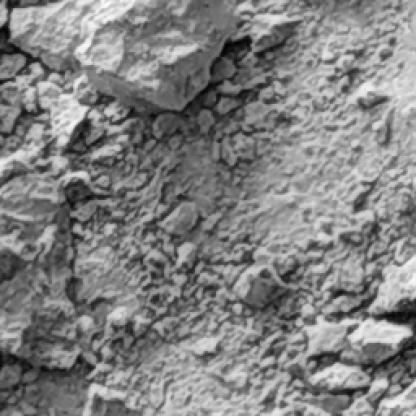cementitious_debris: (1, 2, 413, 414)
